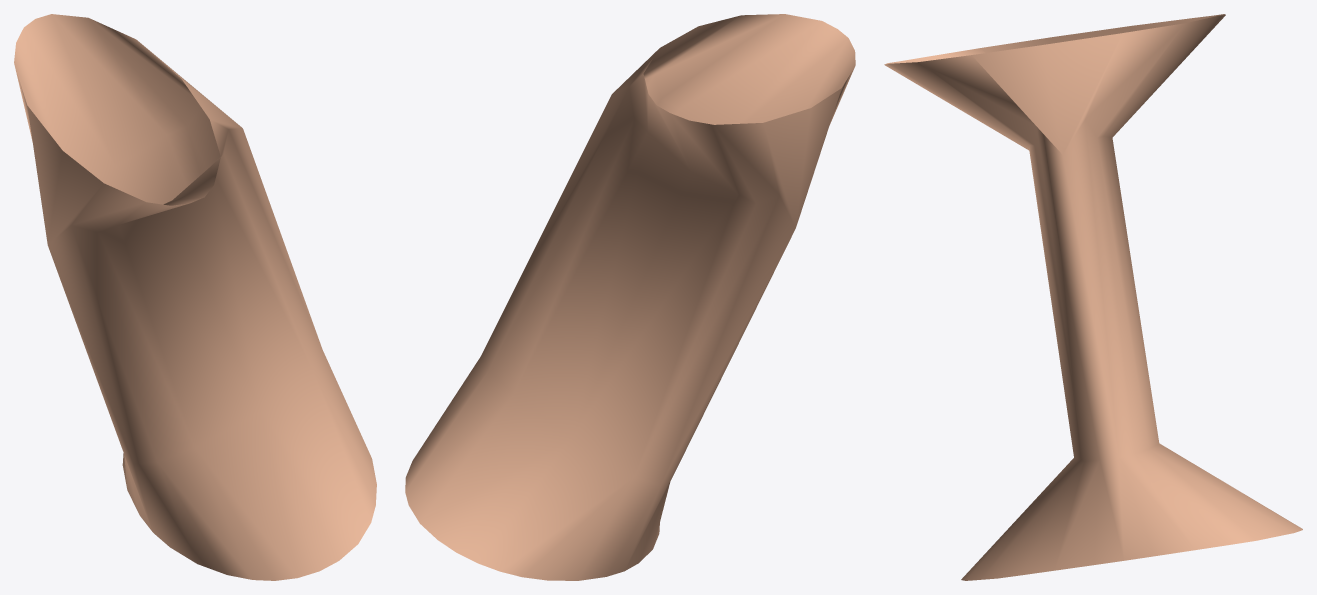
Rendered from ductus.gltf.
3 views of the same model, side by side, from view 1: azimuth 30°, elevation 25°; view 2: azimuth 150°, elevation 25°; view 3: azimuth 270°, elevation 25° (orthographic). The views are drawn at different scales.
Parts seen in each view (by area): view 1: Cylinder.013; view 2: Cylinder.013; view 3: Cylinder.013.
Part boxes in pixels (bbox=[...]): Cylinder.013: bbox=[14, 14, 376, 580]; Cylinder.013: bbox=[405, 14, 855, 580]; Cylinder.013: bbox=[884, 14, 1302, 580].
Bounding box in the file's own units: 0.5043 × 0.7753 × 0.5743.
